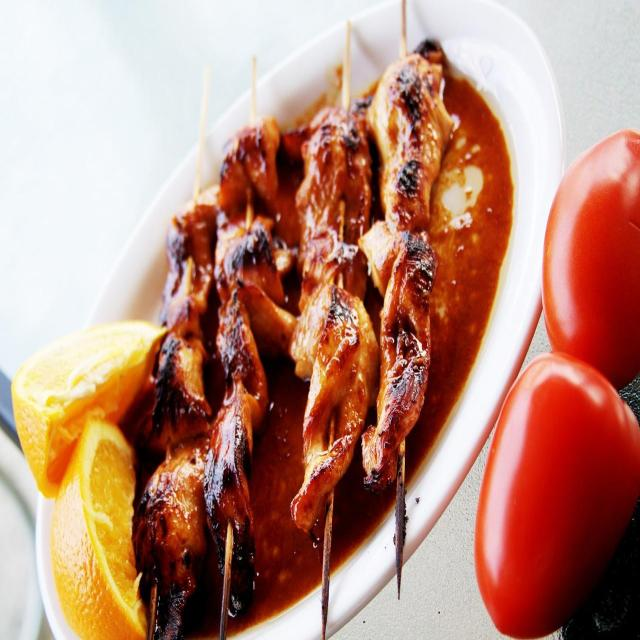Sate: (131, 32, 448, 613)
